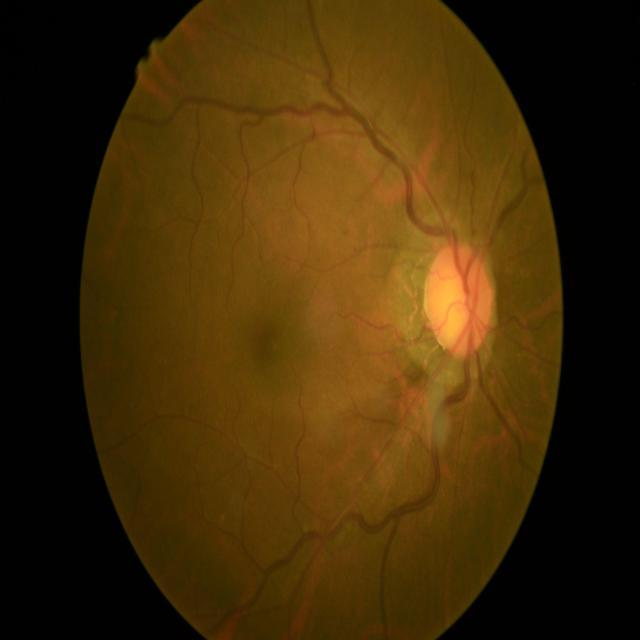cup: (444, 274, 477, 336)
disk: (424, 244, 497, 357)
